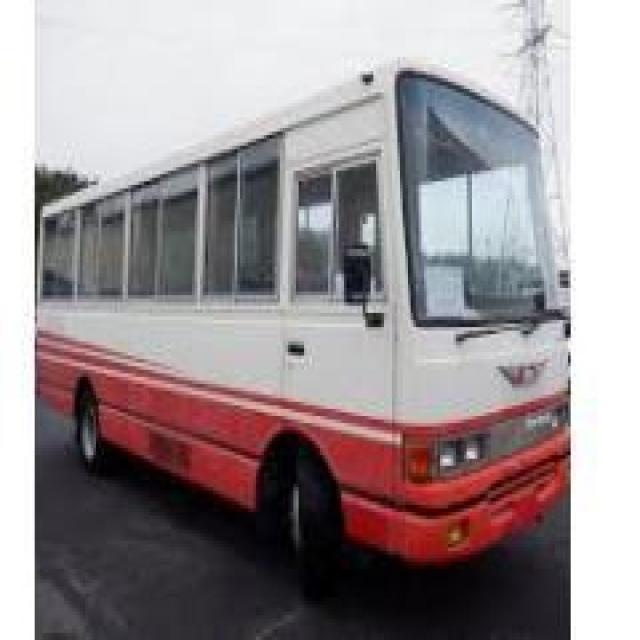Bus: (42, 53, 562, 583)
